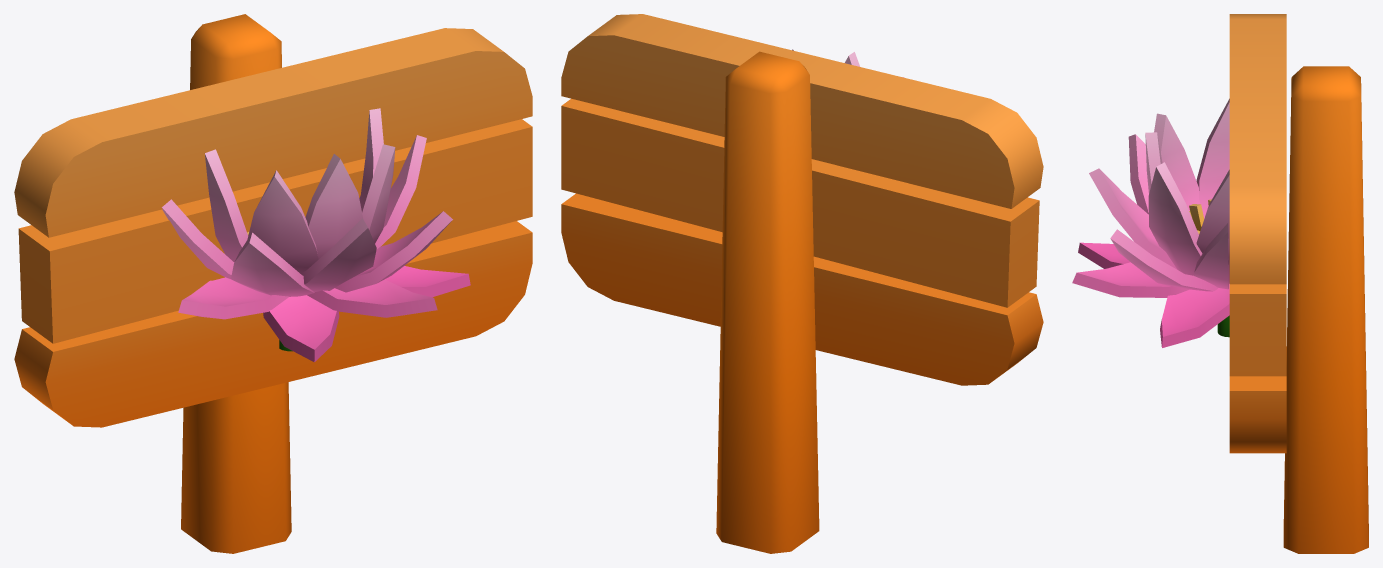
The model's file is Farm_Crop_Sign_Lotus_01.fbx.
3 views of the same model, side by side, from view 1: azimuth 30°, elevation 25°; view 2: azimuth 150°, elevation 25°; view 3: azimuth 270°, elevation 25° (orthographic). The views are drawn at different scales.
Parts seen in each view (by area): view 1: Farm_Crop_Sign_Lotus_01; view 2: Farm_Crop_Sign_Lotus_01; view 3: Farm_Crop_Sign_Lotus_01.
Boxes of the visible parts, x1,y1,x2,y2 form: Farm_Crop_Sign_Lotus_01: [14, 14, 532, 553]; Farm_Crop_Sign_Lotus_01: [561, 14, 1043, 553]; Farm_Crop_Sign_Lotus_01: [1072, 14, 1368, 553].
Bounding box in the file's own units: 90.11 × 88.8 × 51.89.
